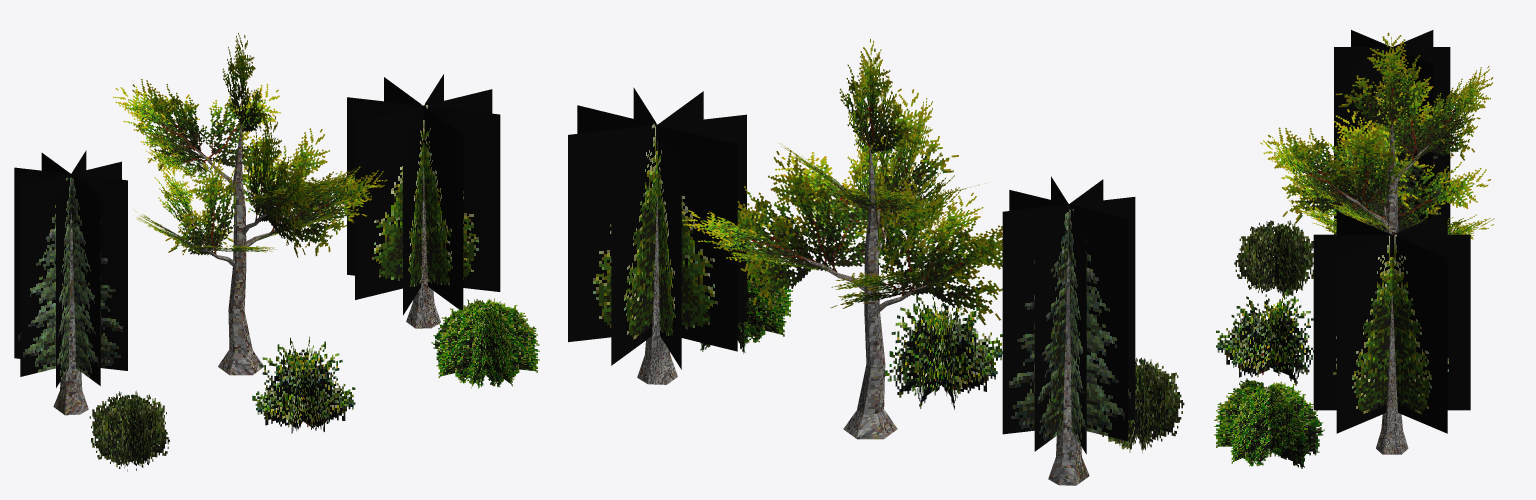
The model's file is arboles_ps1.glb.
3 views of the same model, side by side, from view 1: azimuth 30°, elevation 25°; view 2: azimuth 150°, elevation 25°; view 3: azimuth 270°, elevation 25° (orthographic). The views are drawn at different scales.
Bounding box in the file's own units: 23.33 × 16.73 × 13.31.
Materials: 9 (9 with a texture image).
